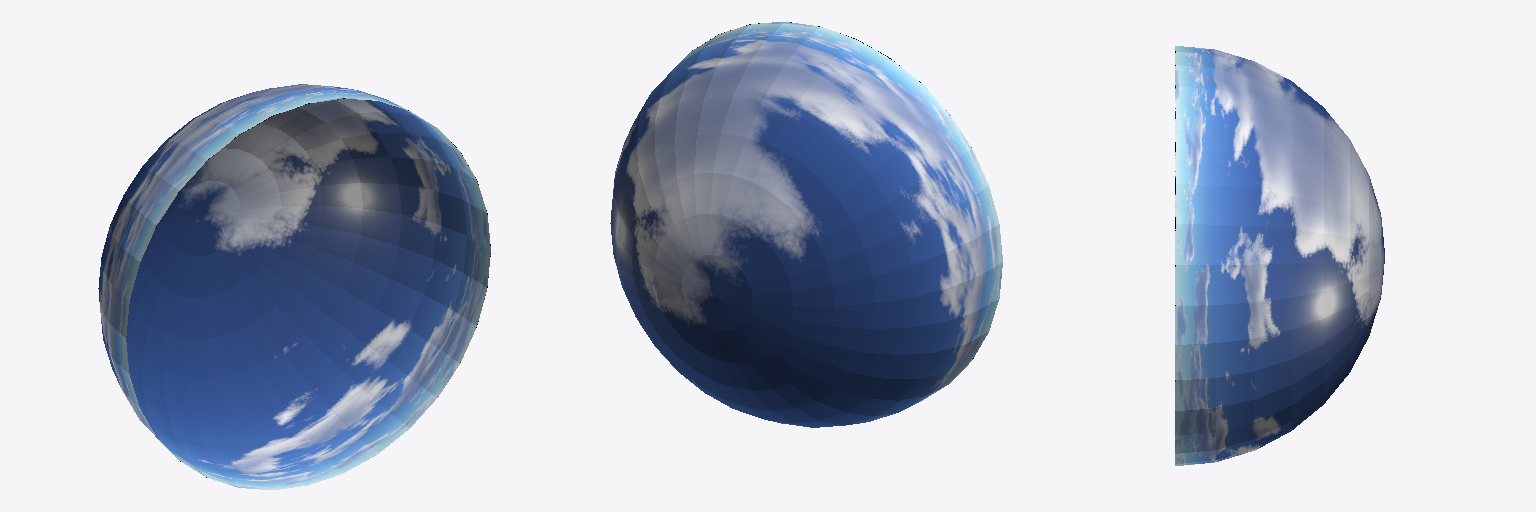
3 renders of one model, left to right at view 1: azimuth 30°, elevation 25°; view 2: azimuth 150°, elevation 25°; view 3: azimuth 270°, elevation 25°, orthographic.
Parts seen in each view (by area): view 1: Sphere; view 2: Sphere; view 3: Sphere.
Part boxes in pixels (left/top/right/bottom): Sphere: left=98, top=84, right=490, bottom=489; Sphere: left=610, top=22, right=1002, bottom=427; Sphere: left=1175, top=46, right=1384, bottom=465.
Size of the model in its own units: 3.62 by 3.62 by 1.81.
Materials: 1 (1 with a texture image).